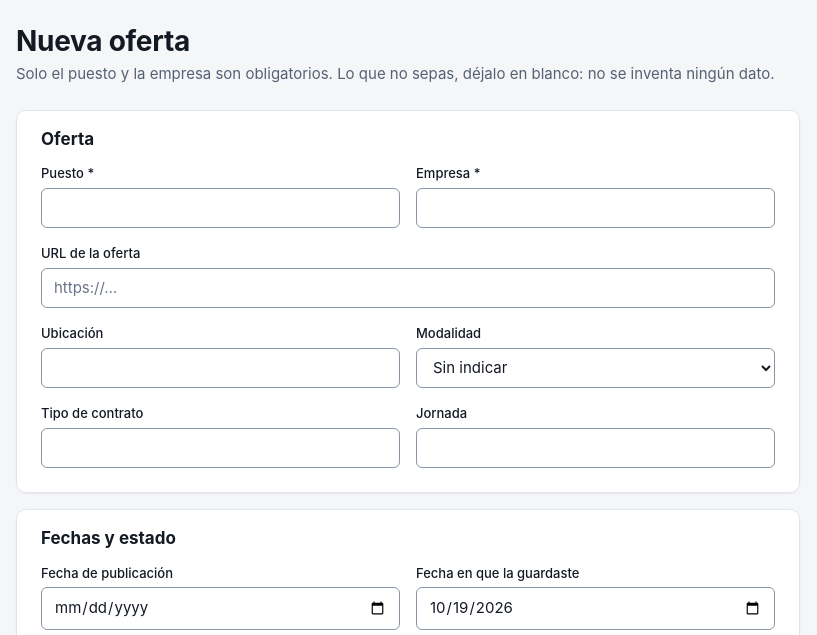
Scenario: OfferFormComponent › valida URL (solo http/https) y rango salarial
The width and height of the screenshot is (817, 635).
Type "Dev" into the field with id "title" at (220,208), box left=41, top=188, right=400, bottom=228
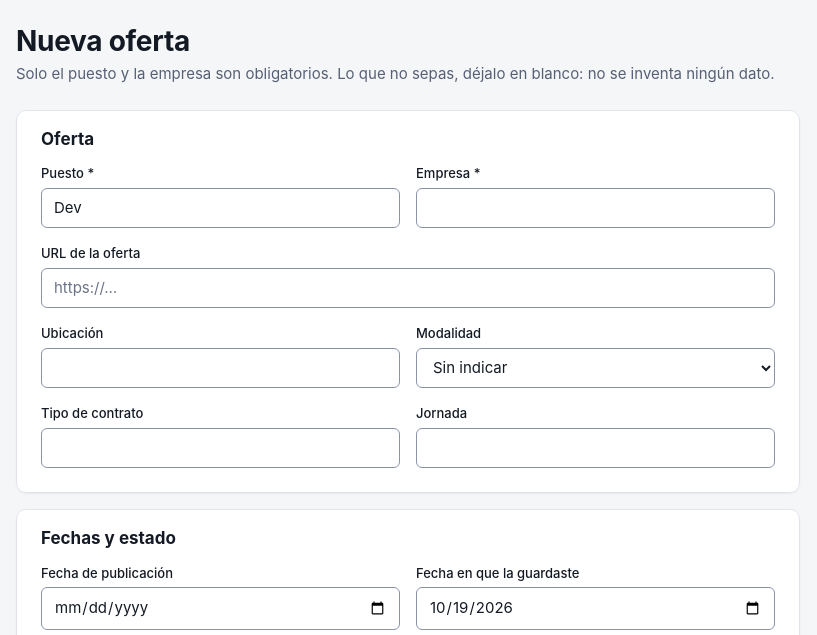
Type "Acme" into the field labelled "Empresa *" at (596,208), box left=416, top=188, right=775, bottom=228
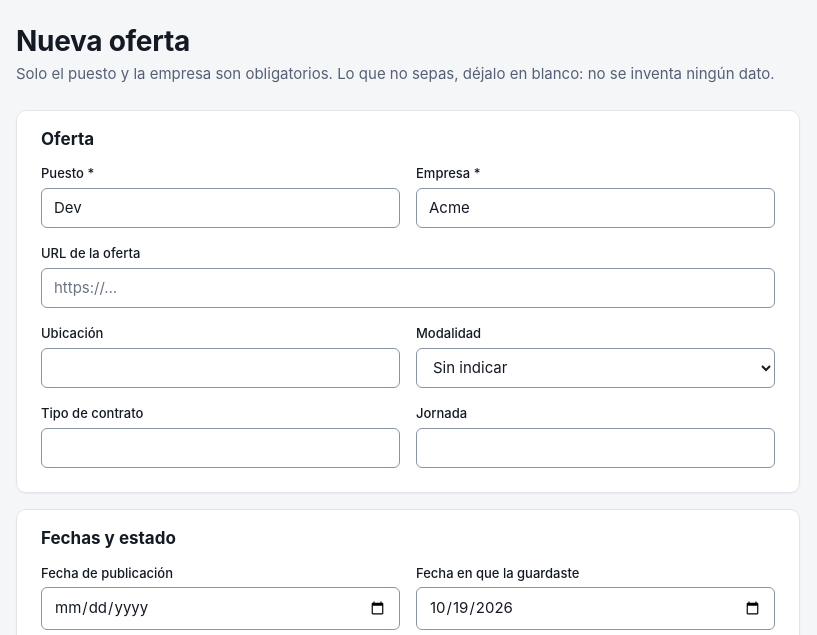
Type "javascript:alert(1)" into the field labelled "URL de la oferta" at (408,288), box left=41, top=268, right=775, bottom=308
(page scrolled)
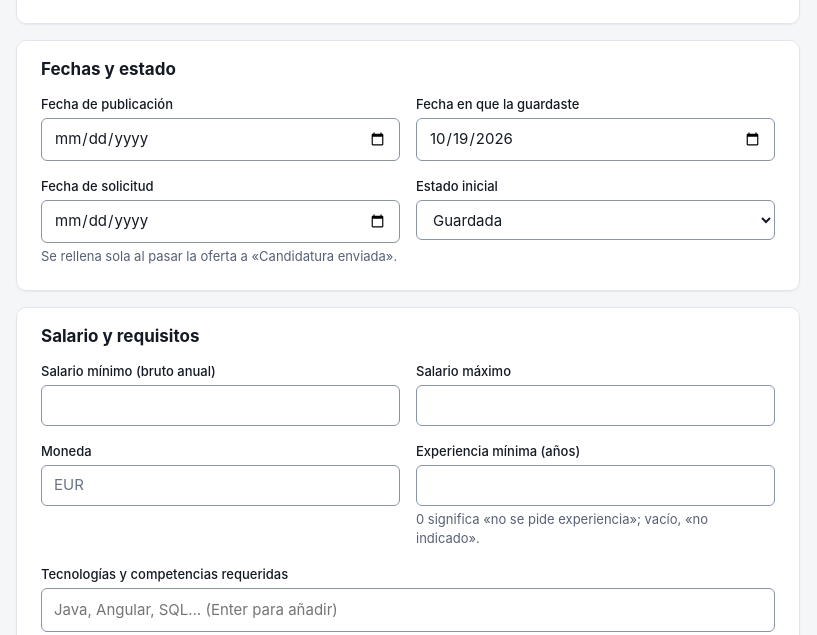
Type "50000" into the number field labelled "Salario mínimo (bruto anual)" at (220,405), box left=41, top=385, right=400, bottom=426
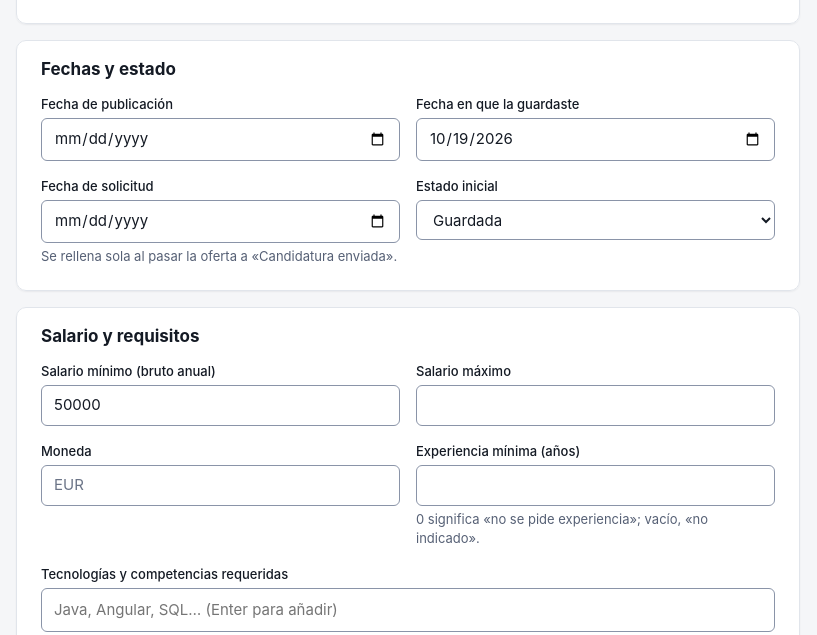
Type "10000" into the number field labelled "Salario máximo" at (596,405), box left=416, top=385, right=775, bottom=426
(page scrolled)
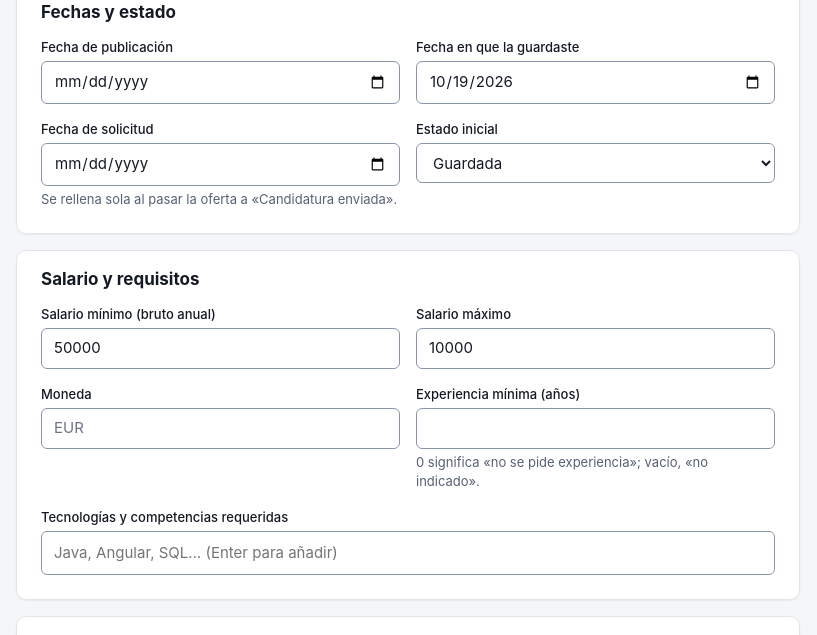
Submit the form
(page scrolled)
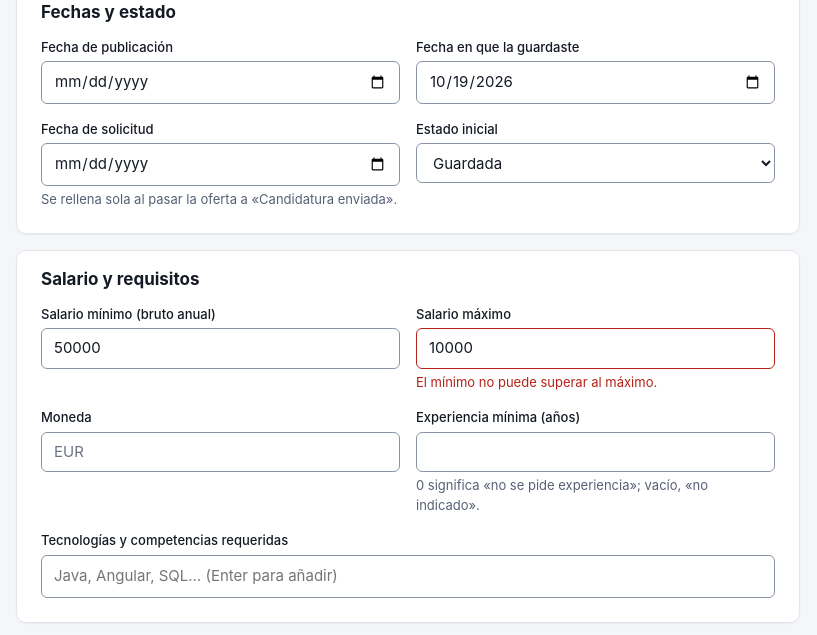
Expected: the text "El mínimo no puede superar al máximo." is shown, left=416, top=374, right=657, bottom=390
